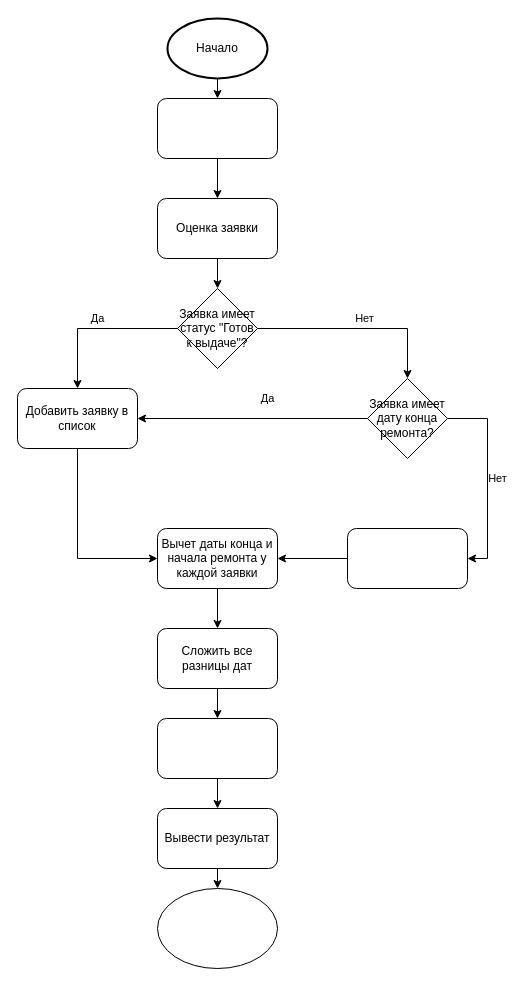
The diagram is 524 pixels wide and 986 high, and some of its shapes have lost their labels. The centre of each missing label's shape, as x and y in pixels:
"Конец" belongs at (217,928).
"Пропуск заявки" belongs at (407,558).
"Разделить разницу с общим количеством заявок" belongs at (217,748).
"Сбор заявок" belongs at (217,128).
